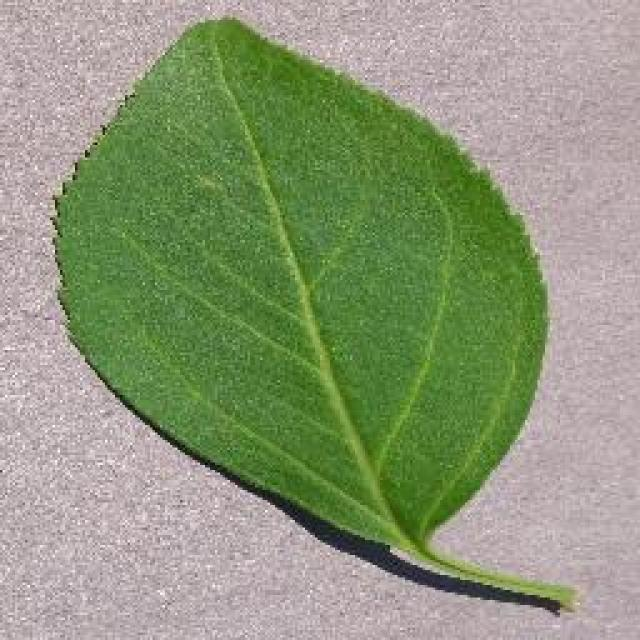Cherry___healthy: (66, 70, 518, 532)
